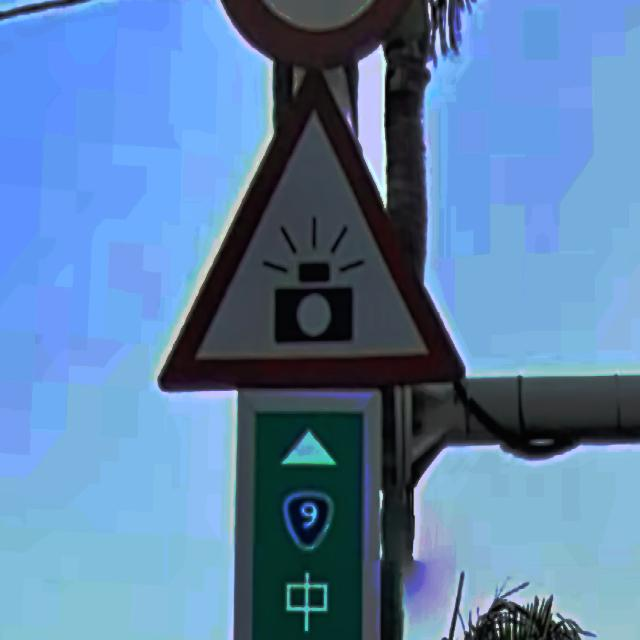speedcamera: (165, 70, 464, 389)
